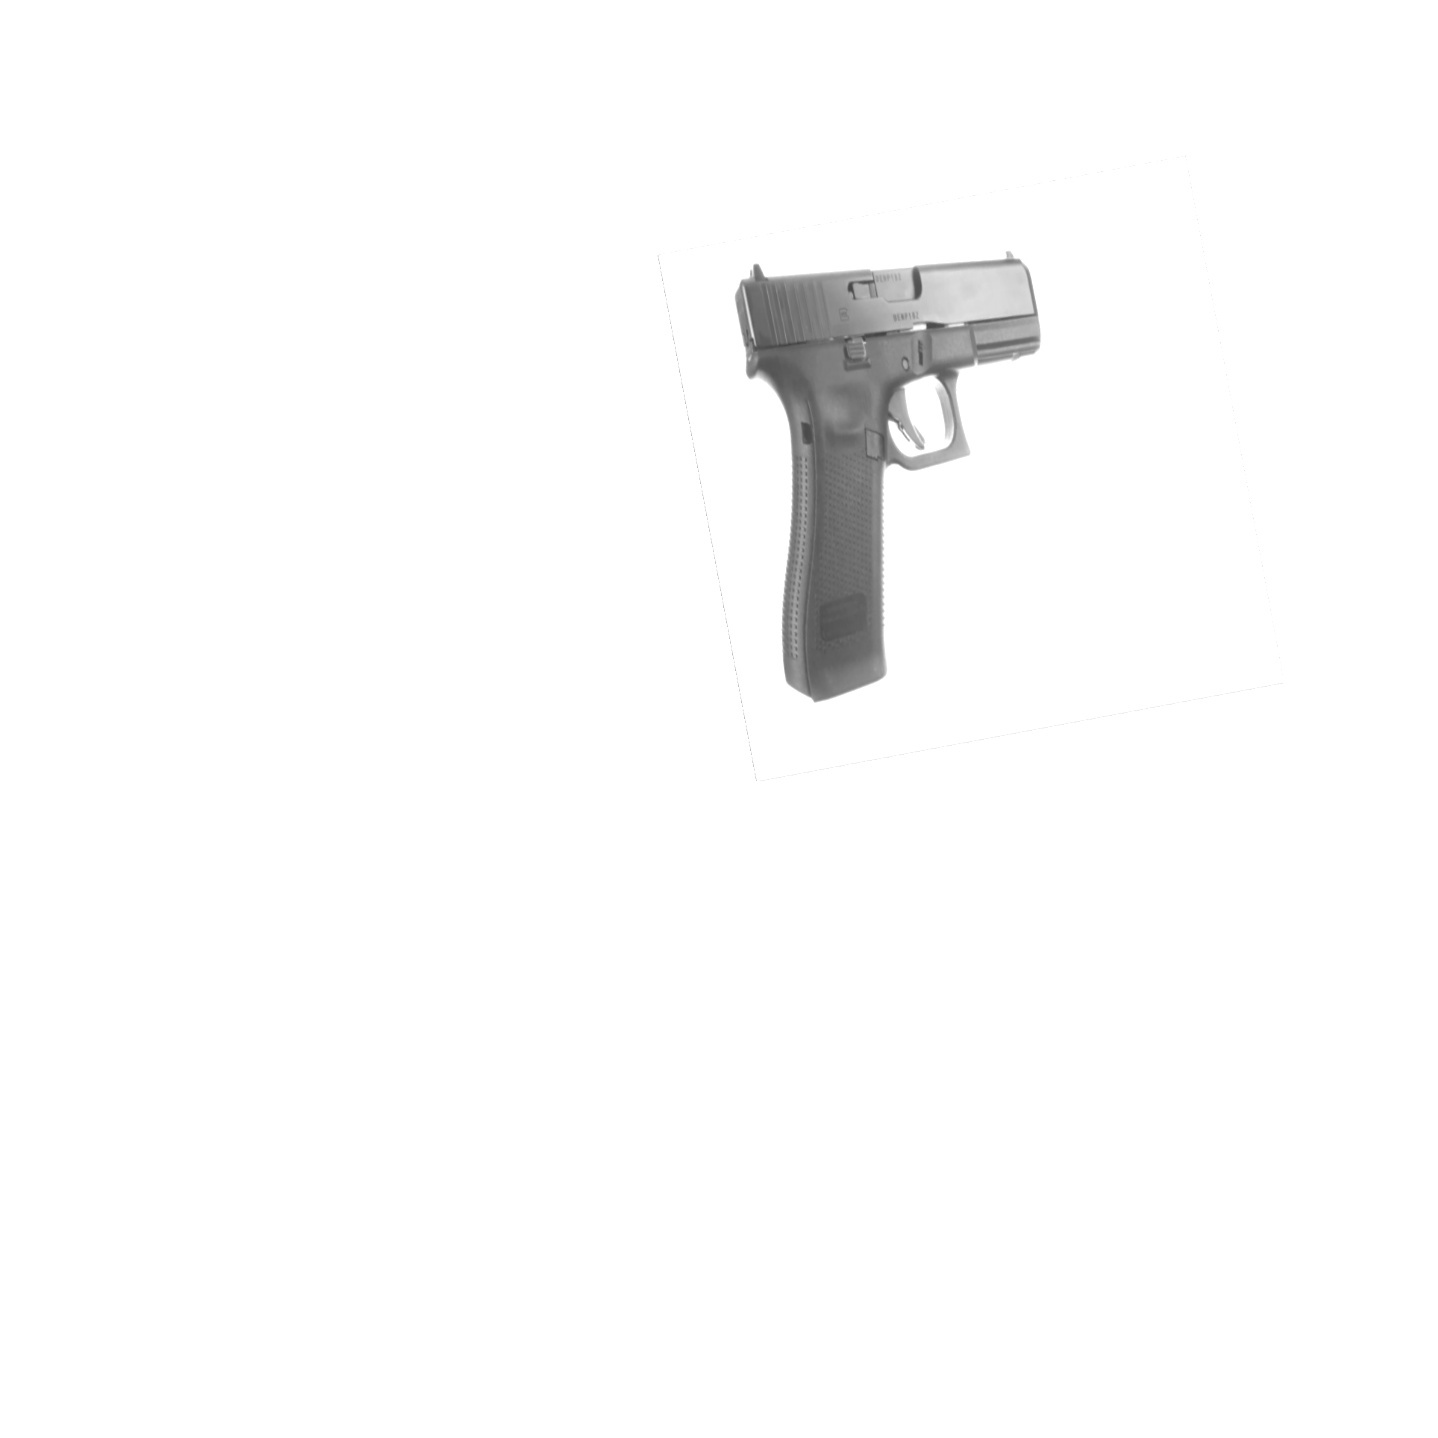gun: (726, 248, 1052, 703)
